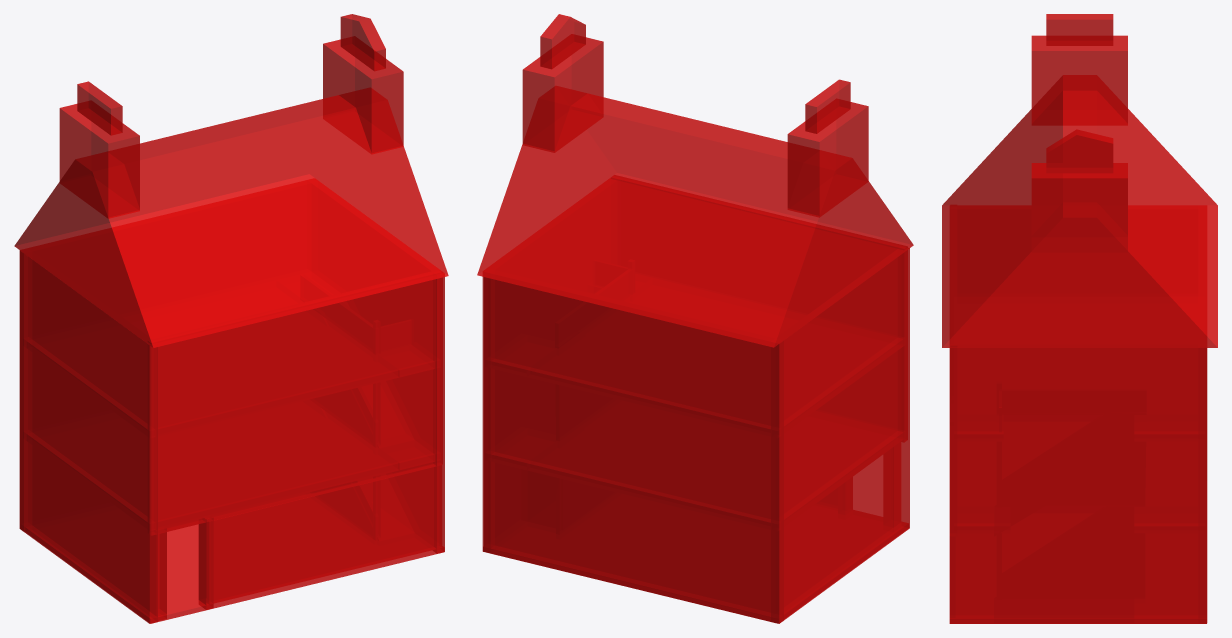
File: SM_Bld_City_Preset_05_Collision.fbx
The picture shows the model from 3 angles, left to right: view 1: azimuth 30°, elevation 25°; view 2: azimuth 150°, elevation 25°; view 3: azimuth 270°, elevation 25°; orthographic projection.
Parts seen in each view (by area): view 1: SM_Bld_City_Preset_05_Collision; view 2: SM_Bld_City_Preset_05_Collision; view 3: SM_Bld_City_Preset_05_Collision.
Part boxes in pixels (x1=…): SM_Bld_City_Preset_05_Collision: x1=14, y1=14, x2=448, y2=623; SM_Bld_City_Preset_05_Collision: x1=477, y1=14, x2=913, y2=623; SM_Bld_City_Preset_05_Collision: x1=942, y1=14, x2=1217, y2=623.
Bounding box in the file's own units: 1001 × 1584 × 817.
